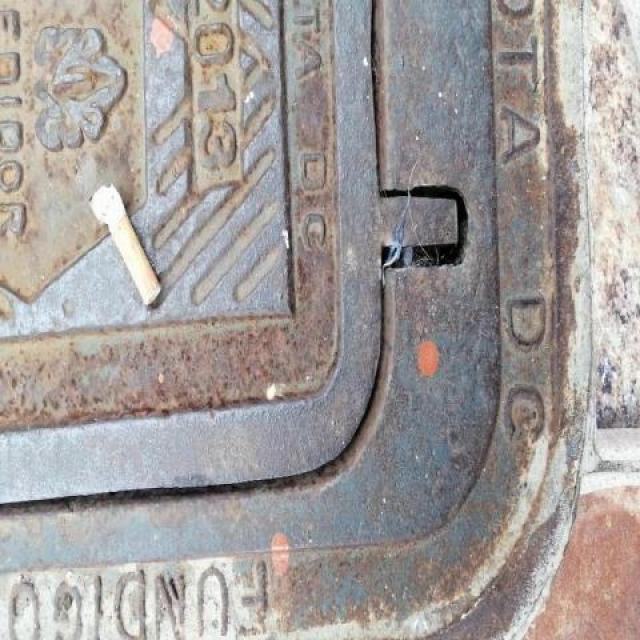non-organic waste: (87, 179, 165, 310)
